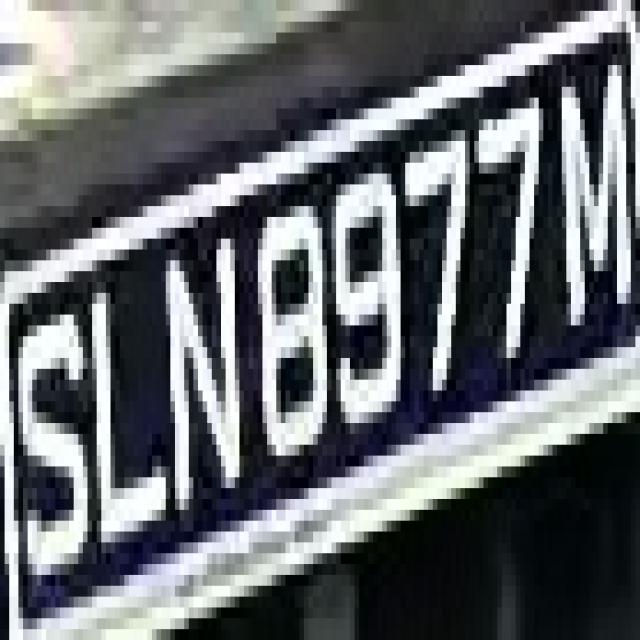7: (387, 87, 488, 434), (470, 76, 552, 390)
8: (249, 141, 327, 499)
9: (313, 130, 414, 499)
L: (92, 260, 170, 542)
M: (548, 86, 635, 380)
N: (161, 228, 263, 520)
S: (23, 293, 83, 586)
